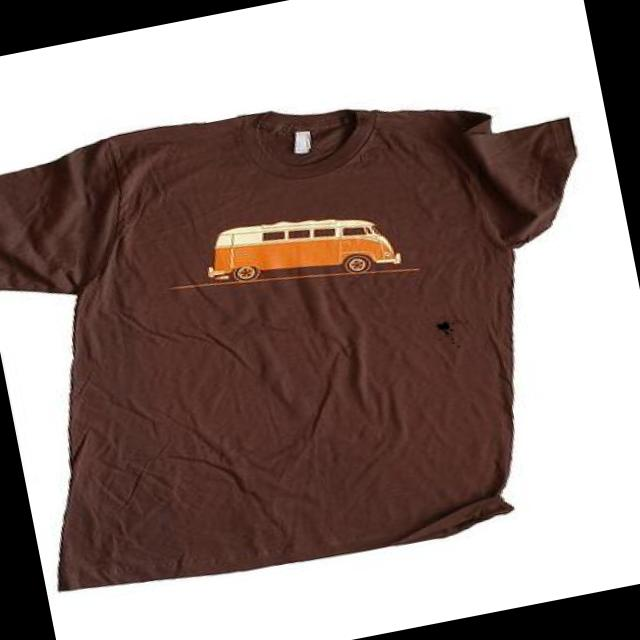stain: (429, 310, 470, 350)
